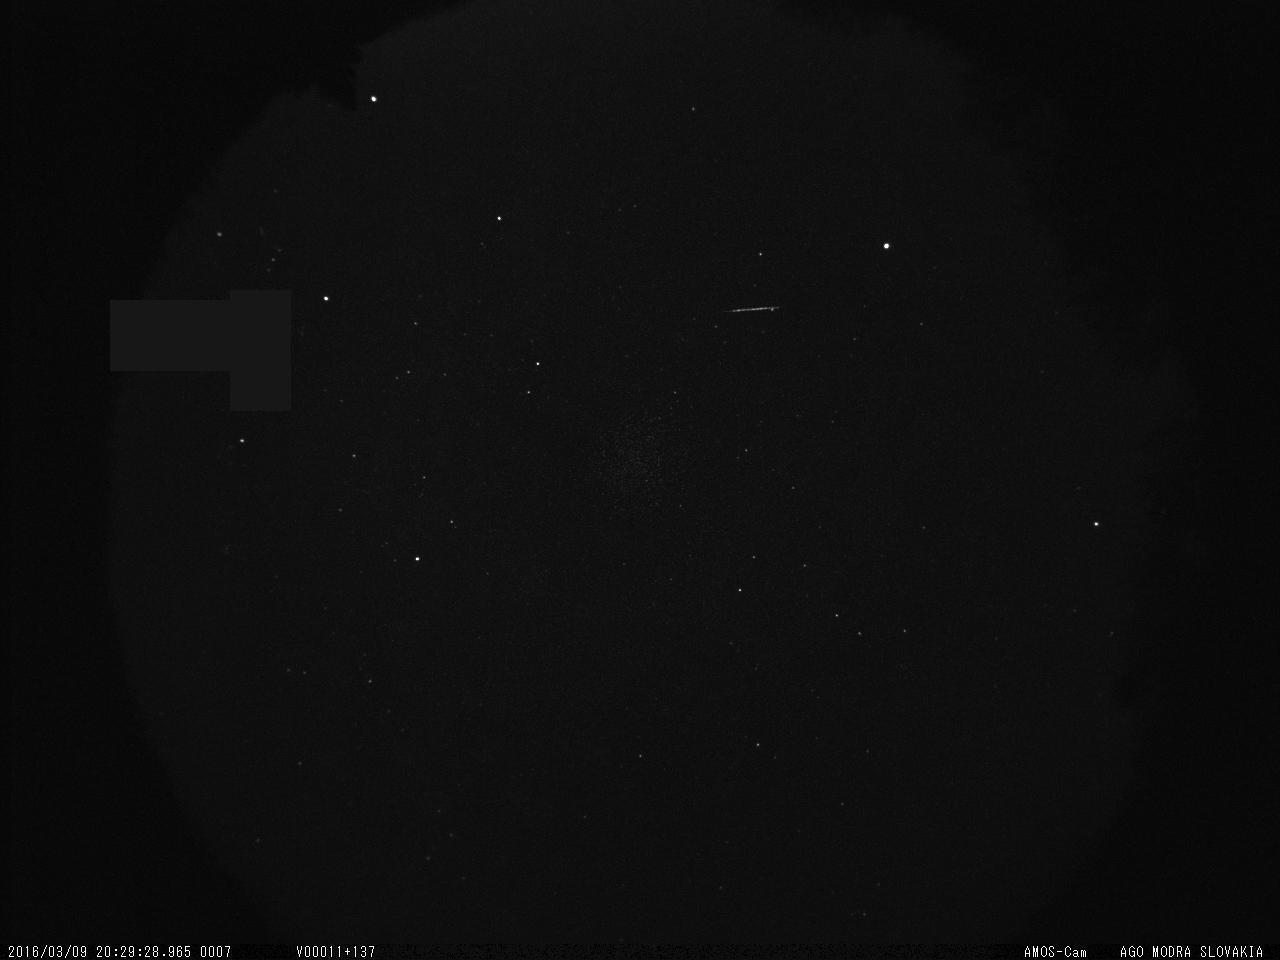meteor: (717, 294, 795, 319)
